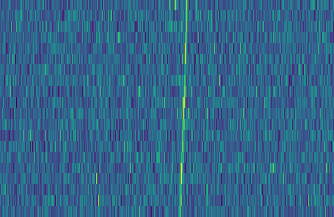signal: (175, 0, 191, 217)
